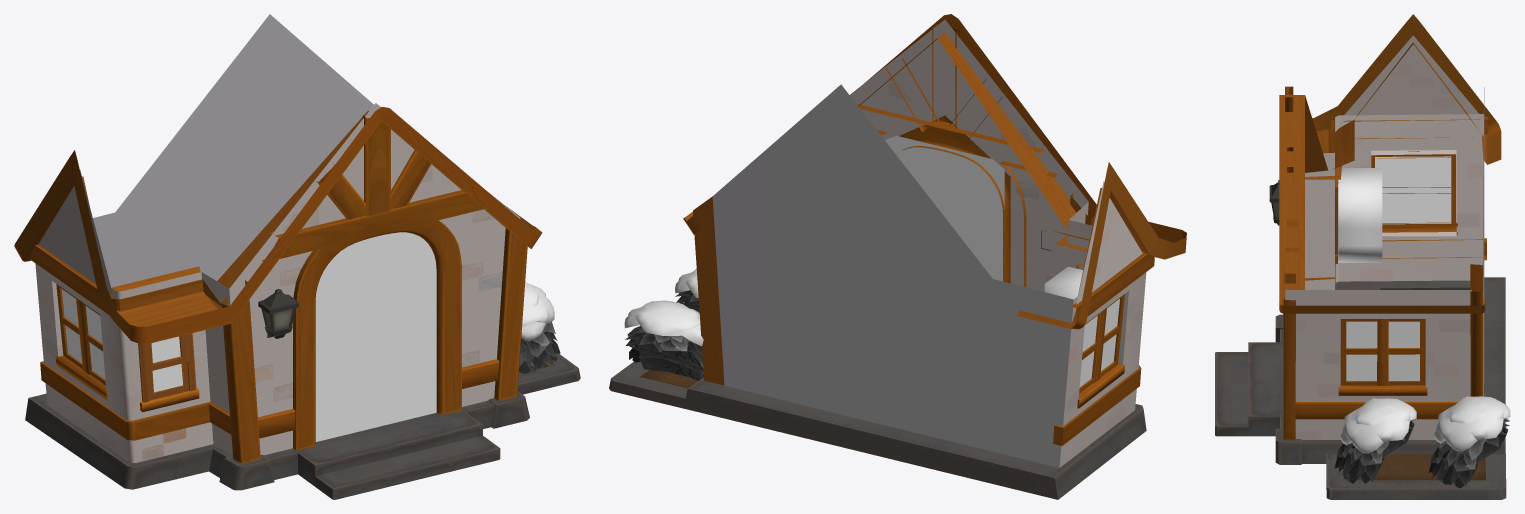
The model's file is standard_walls_2.glb.
The picture shows the model from 3 angles, left to right: view 1: azimuth 30°, elevation 25°; view 2: azimuth 150°, elevation 25°; view 3: azimuth 270°, elevation 25°; orthographic projection. The views are drawn at different scales.
Parts seen in each view (by area): view 1: Back_low__mWallA, Door_Pillar_low__mWallB, SoftMesh__mSoftMesh, SideWindow_L__mSideWindow, Snow3__mWinterSnow, L2L010_1__mIkegaki, Base_low__mLamp, WindowGlass_Down__mWindowGlass; view 2: Back_low__mWallA, Door_Pillar_low__mWallB, SoftMesh__mSoftMesh, L2L010_1__mIkegaki, Snow3__mWinterSnow, SideWindow_L__mSideWindow, Inside02__mHouseInner; view 3: Back_low__mWallA, Door_Pillar_low__mWallB, SideWindow_L__mSideWindow, Snow3__mWinterSnow, Inside02__mHouseInner, L2L010_1__mIkegaki, Base_low__mLamp.
Part boxes in pixels (bbox=[...]): Back_low__mWallA: bbox=[25, 14, 580, 499]; Door_Pillar_low__mWallB: bbox=[14, 106, 542, 463]; SoftMesh__mSoftMesh: bbox=[315, 232, 436, 441]; SideWindow_L__mSideWindow: bbox=[61, 289, 105, 379]; Snow3__mWinterSnow: bbox=[521, 282, 554, 340]; L2L010_1__mIkegaki: bbox=[518, 322, 560, 375]; Base_low__mLamp: bbox=[258, 289, 298, 338]; WindowGlass_Down__mWindowGlass: bbox=[151, 336, 182, 392]; Back_low__mWallA: bbox=[609, 19, 1146, 499]; Door_Pillar_low__mWallB: bbox=[683, 14, 1186, 445]; SoftMesh__mSoftMesh: bbox=[885, 135, 1004, 281]; L2L010_1__mIkegaki: bbox=[624, 290, 703, 380]; Snow3__mWinterSnow: bbox=[624, 269, 703, 345]; SideWindow_L__mSideWindow: bbox=[1079, 299, 1119, 387]; Inside02__mHouseInner: bbox=[1044, 266, 1082, 299]; Back_low__mWallA: bbox=[1215, 35, 1506, 499]; Door_Pillar_low__mWallB: bbox=[1279, 14, 1501, 439]; SideWindow_L__mSideWindow: bbox=[1346, 156, 1451, 380]; Snow3__mWinterSnow: bbox=[1340, 396, 1510, 453]; Inside02__mHouseInner: bbox=[1338, 168, 1382, 262]; L2L010_1__mIkegaki: bbox=[1334, 418, 1509, 488]; Base_low__mLamp: bbox=[1269, 180, 1279, 225].
Bounding box in the file's own units: 46.51 × 33.85 × 27.48.
10 materials, 4 textured.
